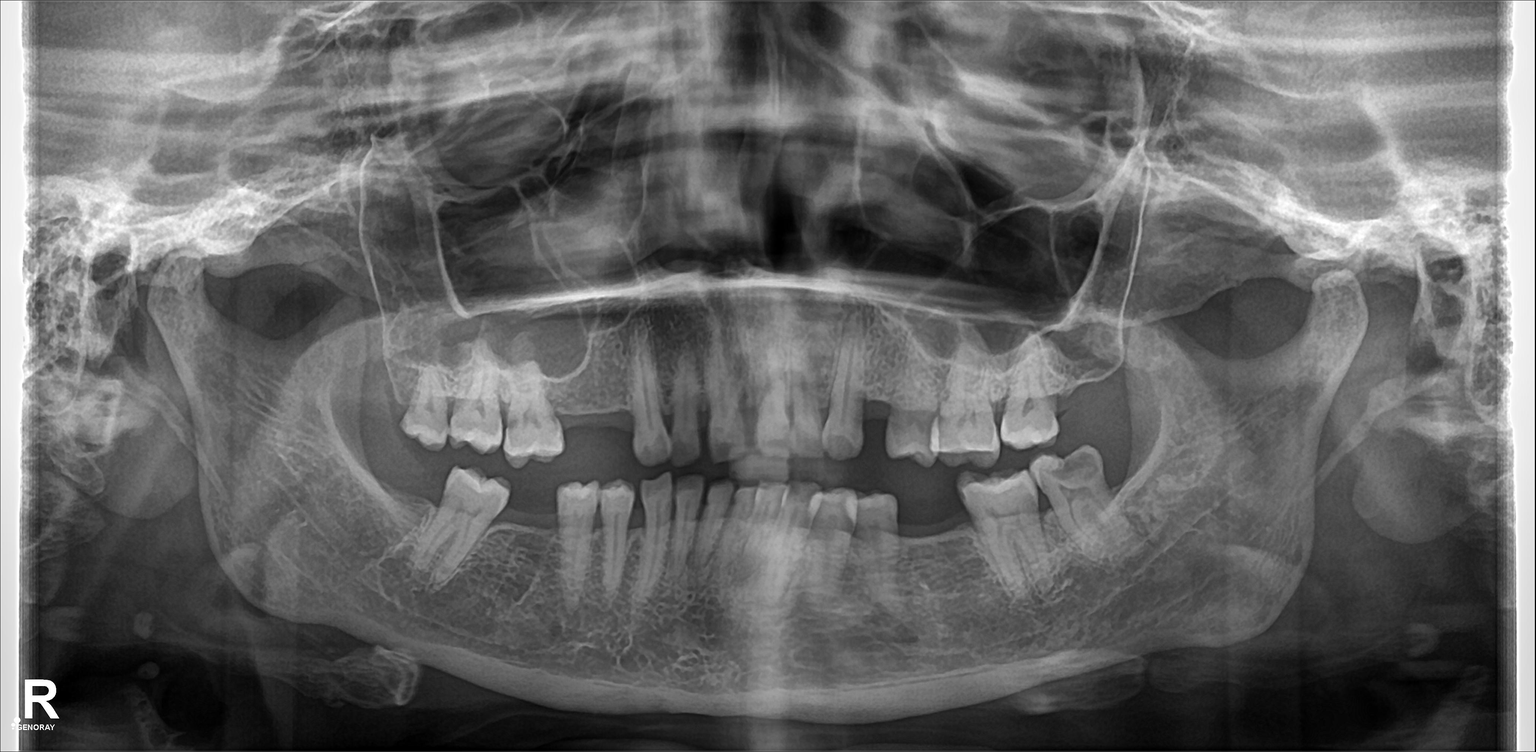Dental Caries: (1050, 456, 1111, 487)
Missing Tooth: (555, 352, 630, 460), (341, 341, 399, 445), (508, 482, 559, 594), (367, 471, 422, 565), (909, 493, 964, 575), (1117, 445, 1156, 557), (1069, 350, 1110, 439), (864, 363, 898, 453)
